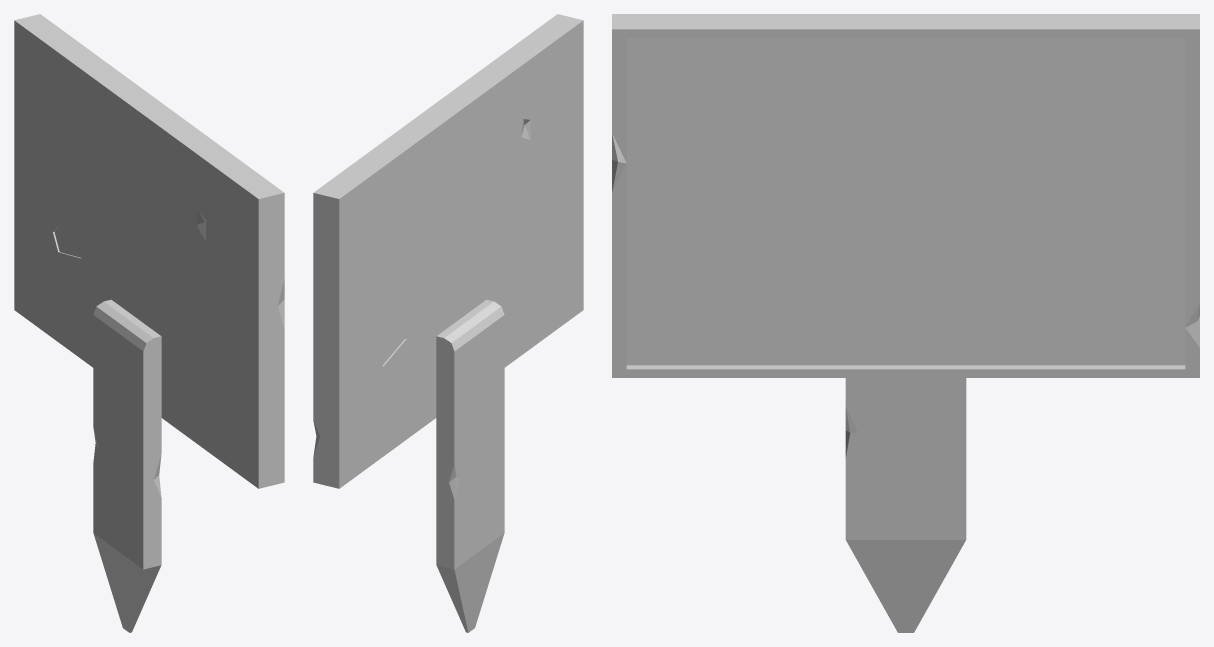
Rendered from mission_board_v01.obj.
The picture shows the model from 3 angles, left to right: view 1: azimuth 30°, elevation 25°; view 2: azimuth 150°, elevation 25°; view 3: azimuth 270°, elevation 25°; orthographic projection. The views are drawn at different scales.
Visible parts, largest first — view 1: mission_board_v01_Mat_PolygonTown_01_A; view 2: mission_board_v01_Mat_PolygonTown_01_A; view 3: mission_board_v01_MI_PA_Raccoon_Albine, mission_board_v01_Mat_PolygonTown_01_A.
Boxes of the visible parts, x1,y1,x2,y2 form: mission_board_v01_Mat_PolygonTown_01_A: (14,14,284,632); mission_board_v01_Mat_PolygonTown_01_A: (313,14,583,632); mission_board_v01_MI_PA_Raccoon_Albine: (626,38,1185,365); mission_board_v01_Mat_PolygonTown_01_A: (612,14,1199,632).
Bounding box in the file's own units: 0.412 × 4.38 × 3.74.
Materials: 2 (1 with a texture image).
